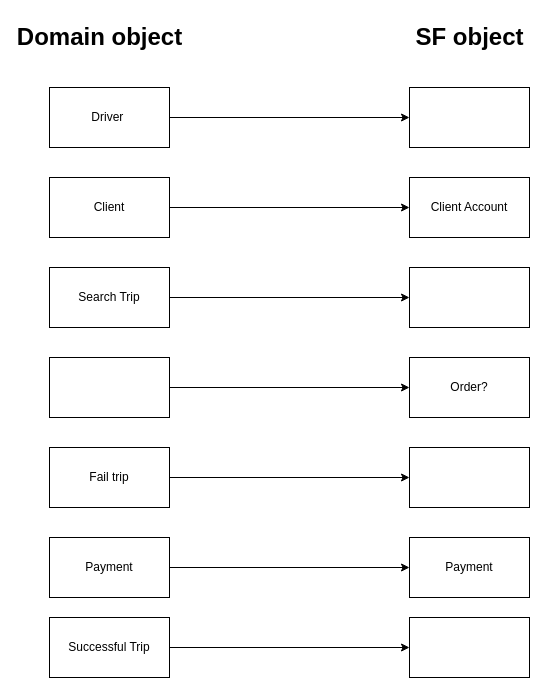
Image size: 547x695. Some labels were removed from this diagram. Each missing label, with the centre of its shape:
"Closed Order and Case?" goes at pixel 469 477.
"Closed Order?" goes at pixel 469 647.
"Driver Account" goes at pixel 469 117.
"Opportunity" goes at pixel 469 297.
"Trip in Progress" goes at pixel 109 387.
